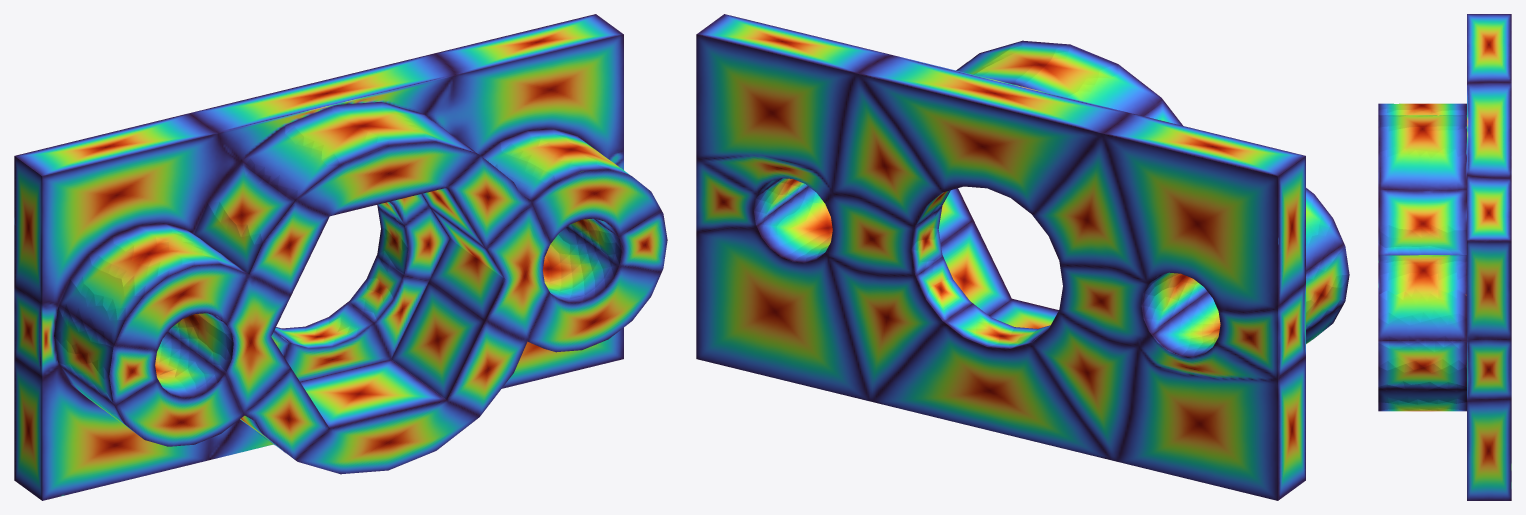
File: gen1.glb
The picture shows the model from 3 angles, left to right: view 1: azimuth 30°, elevation 25°; view 2: azimuth 150°, elevation 25°; view 3: azimuth 270°, elevation 25°; orthographic projection. The views are drawn at different scales.
Parts seen in each view (by area): view 1: Node; view 2: Node; view 3: Node.
Boxes of the visible parts, left/top/right/bottom form: Node: left=14, top=14, right=667, bottom=500; Node: left=696, top=14, right=1349, bottom=500; Node: left=1378, top=14, right=1511, bottom=500.
Size of the model in its own units: 38.1 by 20.32 by 9.45.
1 material, 1 textured.
